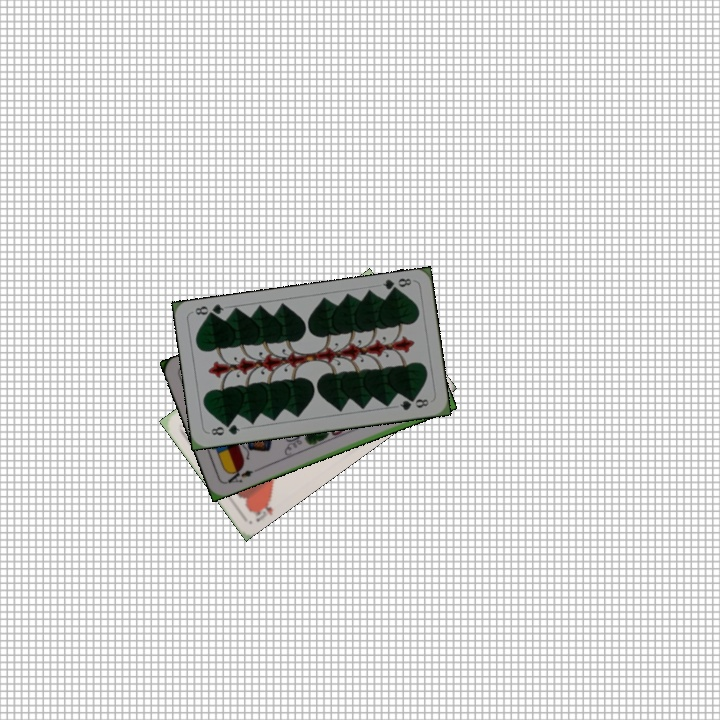EA: (222, 464, 261, 486)
G8: (379, 274, 414, 296), (207, 420, 242, 438)
HO: (246, 492, 276, 525)
